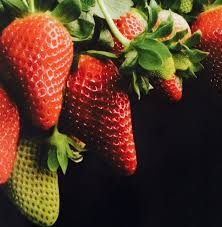ripe: (1, 11, 79, 129), (62, 52, 123, 135), (96, 84, 145, 176), (196, 3, 221, 100), (107, 12, 155, 57), (1, 83, 20, 193), (149, 54, 184, 110)
unripe: (5, 123, 64, 227), (150, 4, 195, 55)
